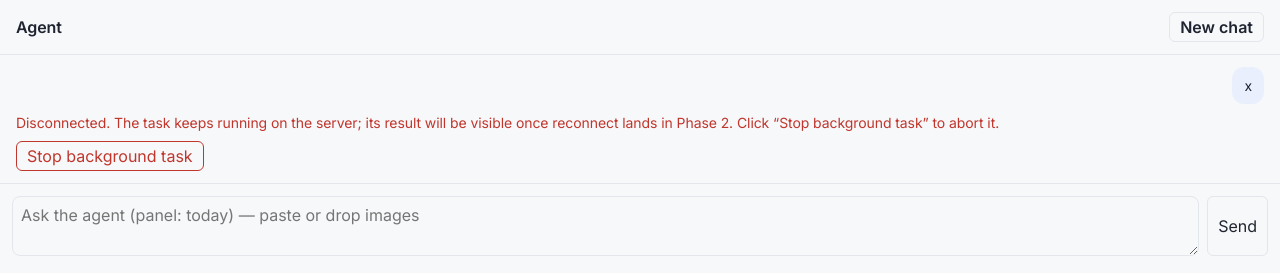
Test: AgentChat › disconnect mid-run offers Stop background task, which cancels over a new socket
Earlier steps of the test are not shown.
Expected: the text "Disconnected. The task keeps running on the server; its result will be visible once reconnect lands in Phase 2. Click “S" is shown, [16,114,999,131]
Click the button "Stop background task" at {"x": 110, "y": 156}, box [16,141,204,171]
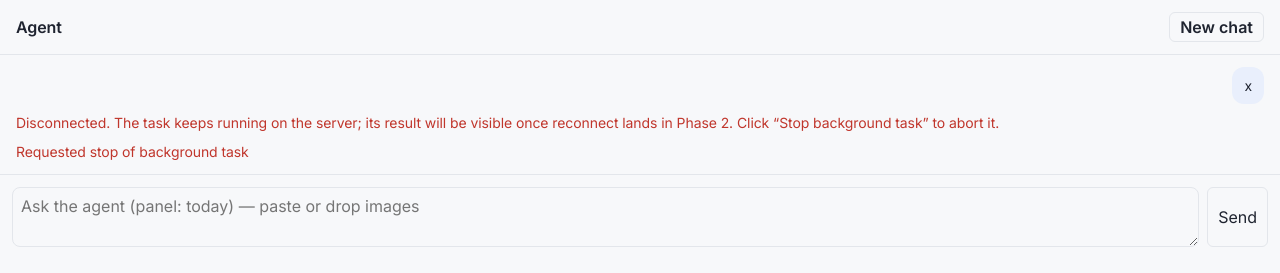
Expected: the text "Stop background task" is not shown
Expected: the text "Requested stop of background task" is shown, [16,143,249,160]
